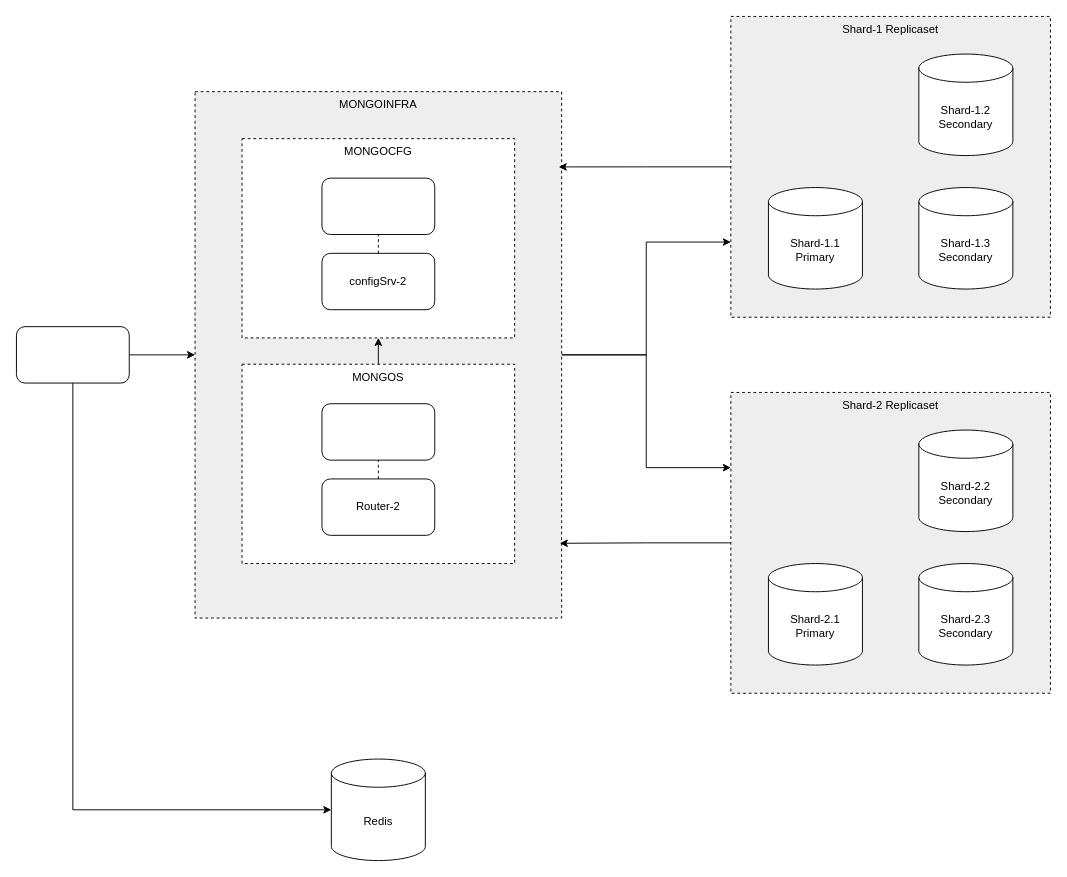
The diagram is 1067 pixels wide and 877 high, and some of its shapes have lost their labels. Here are the shapes that lost their labels. From the top down, the centre of each, then its label:
At point (378, 206): "configSrv-1".
At point (72, 354): "pymongo-api".
At point (378, 431): "Router-1".
